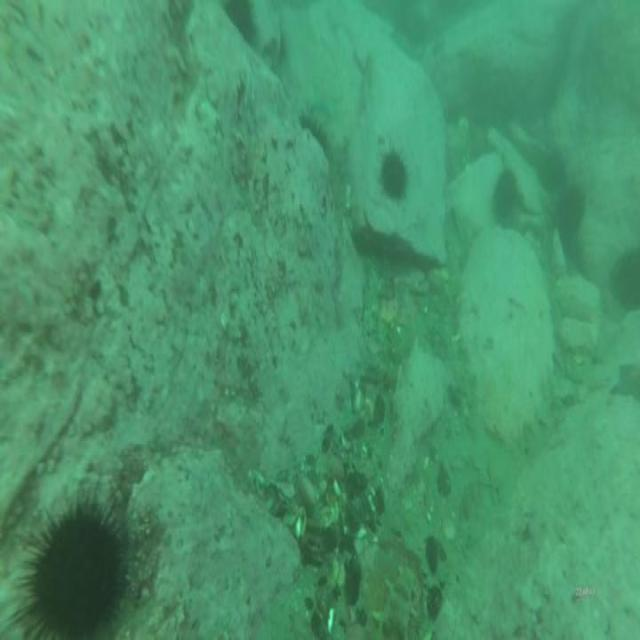echinus: (10, 490, 135, 640), (218, 0, 260, 58), (375, 142, 412, 205), (609, 243, 640, 314), (553, 182, 588, 242), (296, 107, 332, 163), (538, 142, 567, 198), (492, 164, 519, 224)
holothurian: (369, 559, 426, 640)
starfish: (607, 359, 640, 406)
